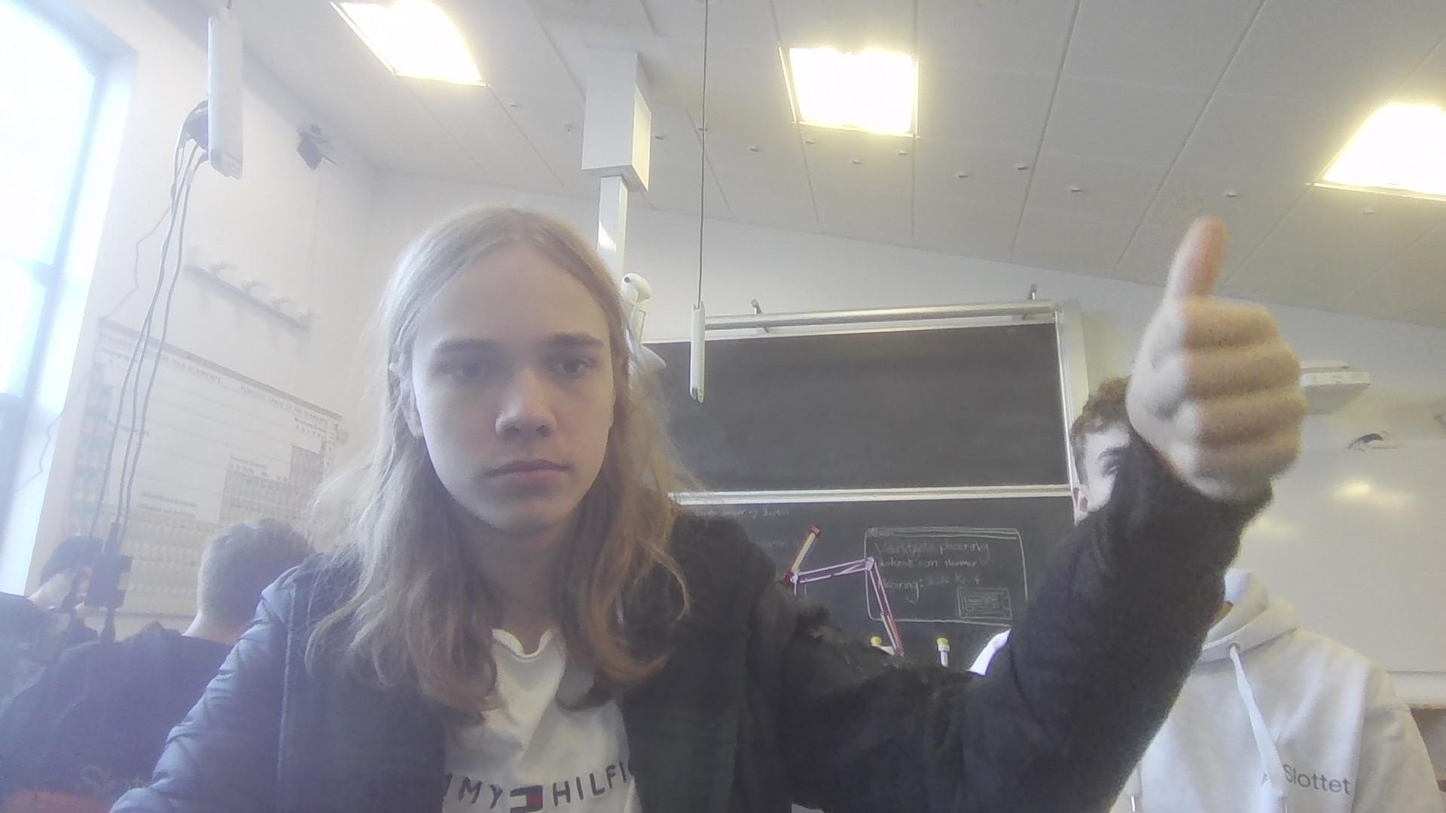thumbs up: (1122, 211, 1309, 508)
